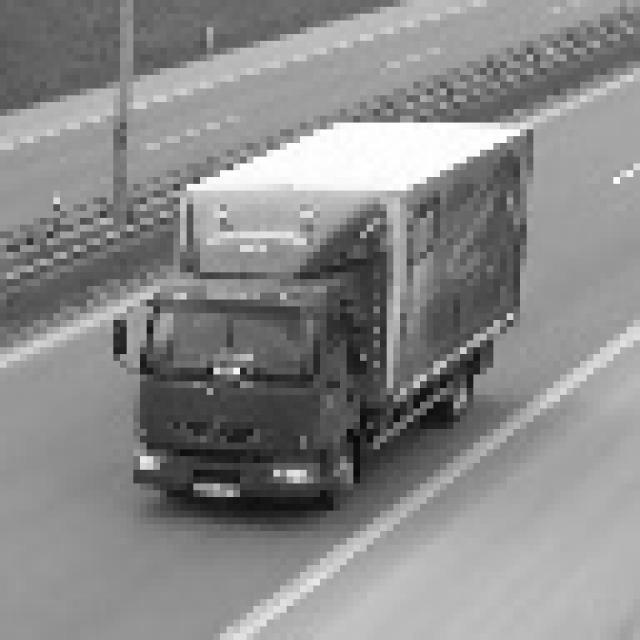truck: (98, 177, 410, 519)
